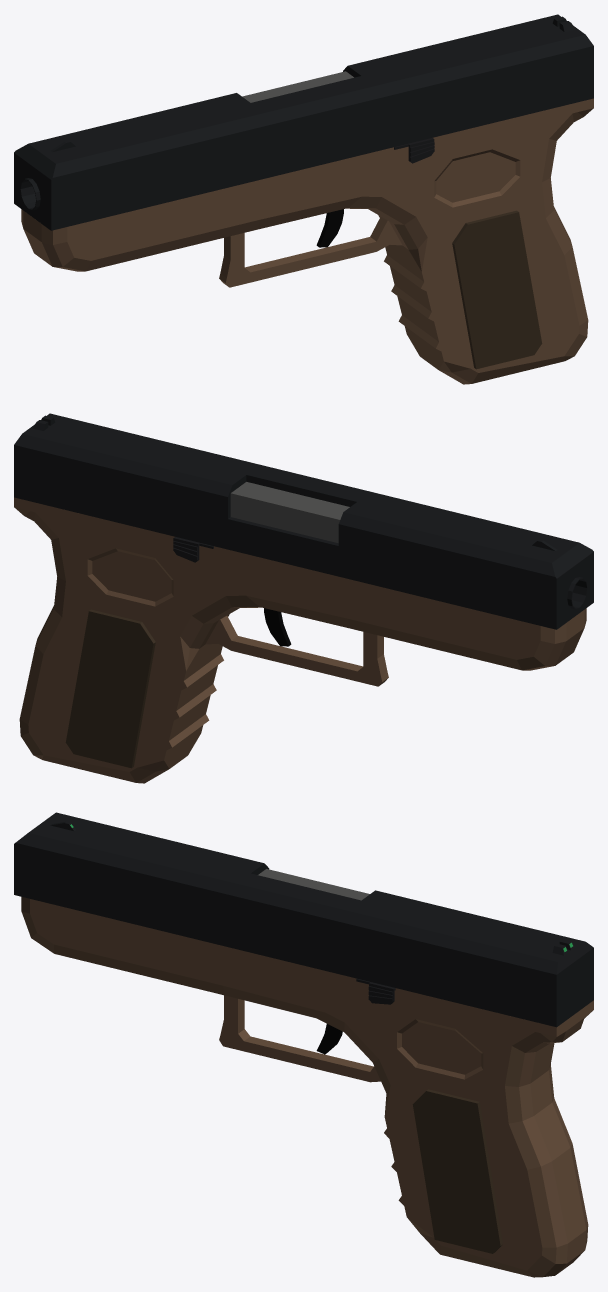
Rendered from Gun_9mm.gltf.
3 renders of one model, top to bottom at view 1: azimuth 30°, elevation 25°; view 2: azimuth 150°, elevation 25°; view 3: azimuth 330°, elevation 25°, orthographic.
Visible parts, largest first — view 1: Gun_9mm, Gate_07, Trigger_Guard_07; view 2: Gun_9mm, Gate_07, Trigger_Guard_07; view 3: Gun_9mm, Gate_07.
Part boxes in pixels (left/top/right/bottom): Gun_9mm: left=20, top=98, right=593, bottom=384; Gate_07: left=14, top=14, right=593, bottom=230; Trigger_Guard_07: left=316, top=209, right=343, bottom=247; Gun_9mm: left=14, top=497, right=587, bottom=783; Gate_07: left=14, top=413, right=593, bottom=629; Trigger_Guard_07: left=264, top=608, right=291, bottom=646; Gun_9mm: left=21, top=897, right=593, bottom=1277; Gate_07: left=14, top=812, right=593, bottom=1027.
Size of the model in its own units: 0.1867 by 0.1074 by 0.0248.
